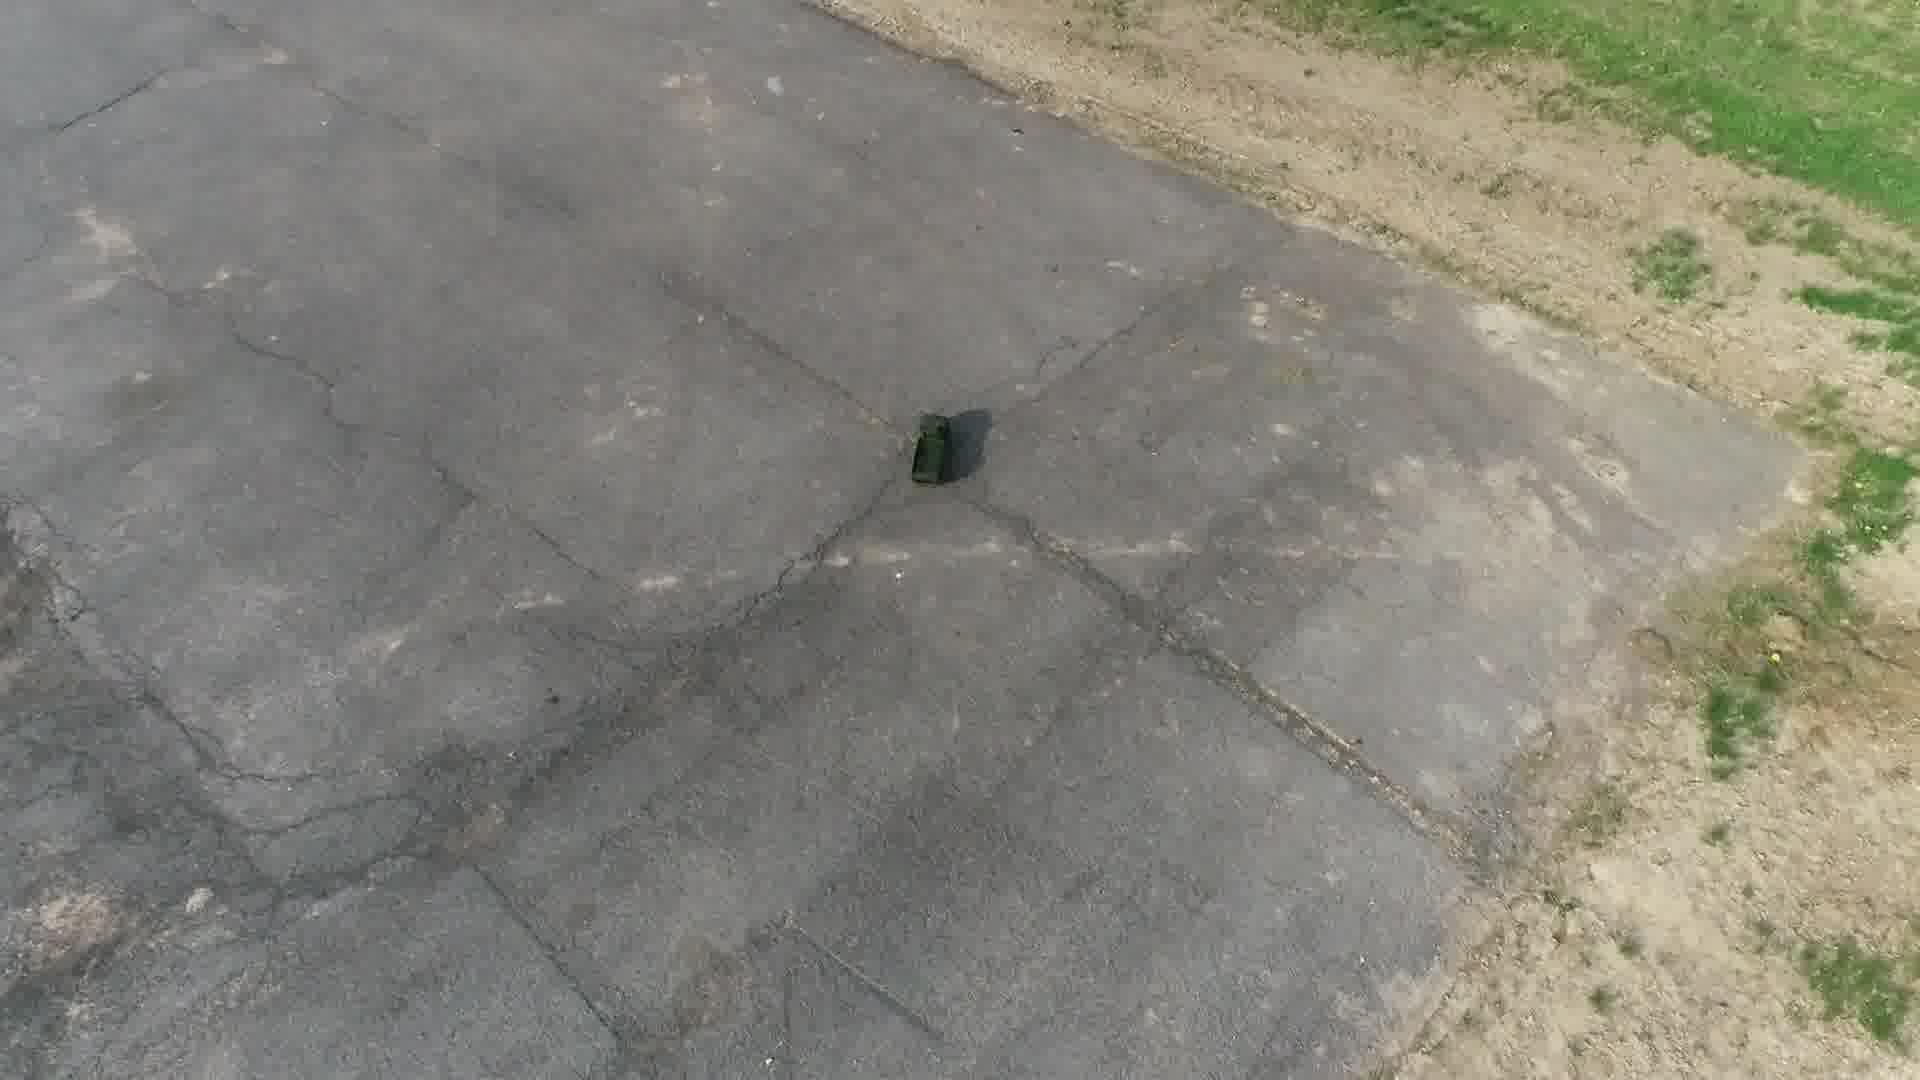transporter9: (903, 411, 956, 489)
